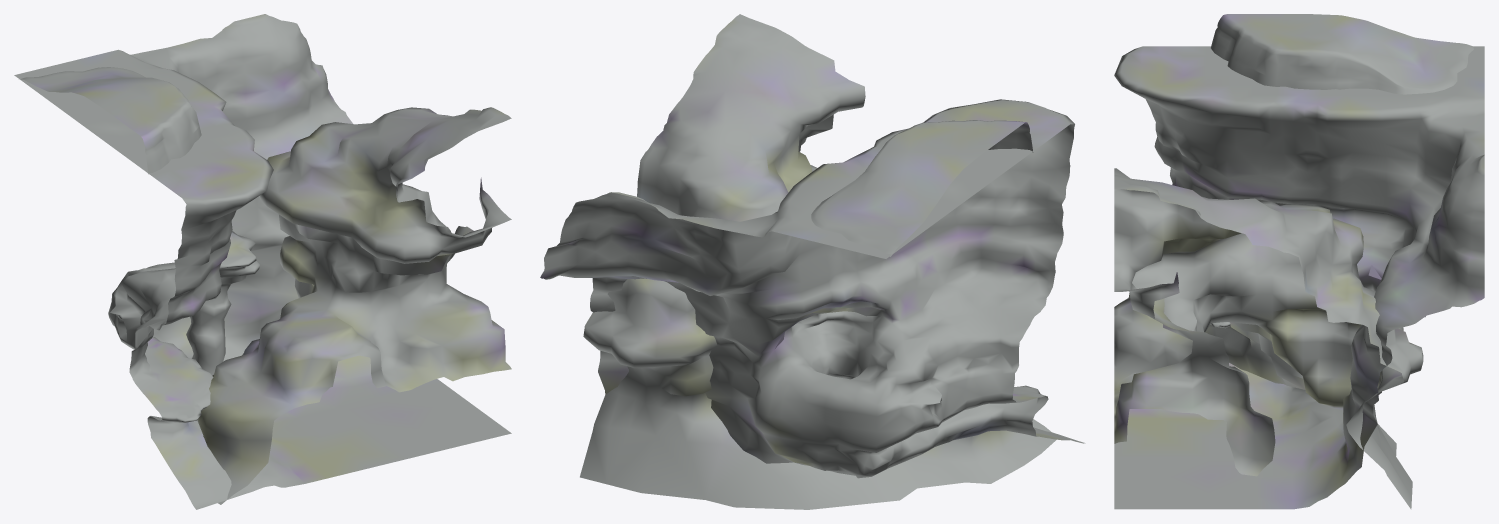
3 views of the same model, side by side, from view 1: azimuth 30°, elevation 25°; view 2: azimuth 150°, elevation 25°; view 3: azimuth 270°, elevation 25° (orthographic). The views are drawn at different scales.
Visible parts, largest first — view 1: G:\FFXIV-MapTools\exports\y6f2\bg\ex5\02_ykt_y6\fld\y6f2\bgp (×5); view 2: G:\FFXIV-MapTools\exports\y6f2\bg\ex5\02_ykt_y6\fld\y6f2\bgp (×6); view 3: G:\FFXIV-MapTools\exports\y6f2\bg\ex5\02_ykt_y6\fld\y6f2\bgp (×5).
Boxes of the visible parts, <box> form: G:\FFXIV-MapTools\exports\y6f2\bg\ex5\02_ykt_y6\fld\y6f2\bgp (×5): <box>14,14,511,509</box>; G:\FFXIV-MapTools\exports\y6f2\bg\ex5\02_ykt_y6\fld\y6f2\bgp (×6): <box>540,14,1085,509</box>; G:\FFXIV-MapTools\exports\y6f2\bg\ex5\02_ykt_y6\fld\y6f2\bgp (×5): <box>1114,14,1484,509</box>.
Size of the model in its own units: 128 by 130 by 128.
